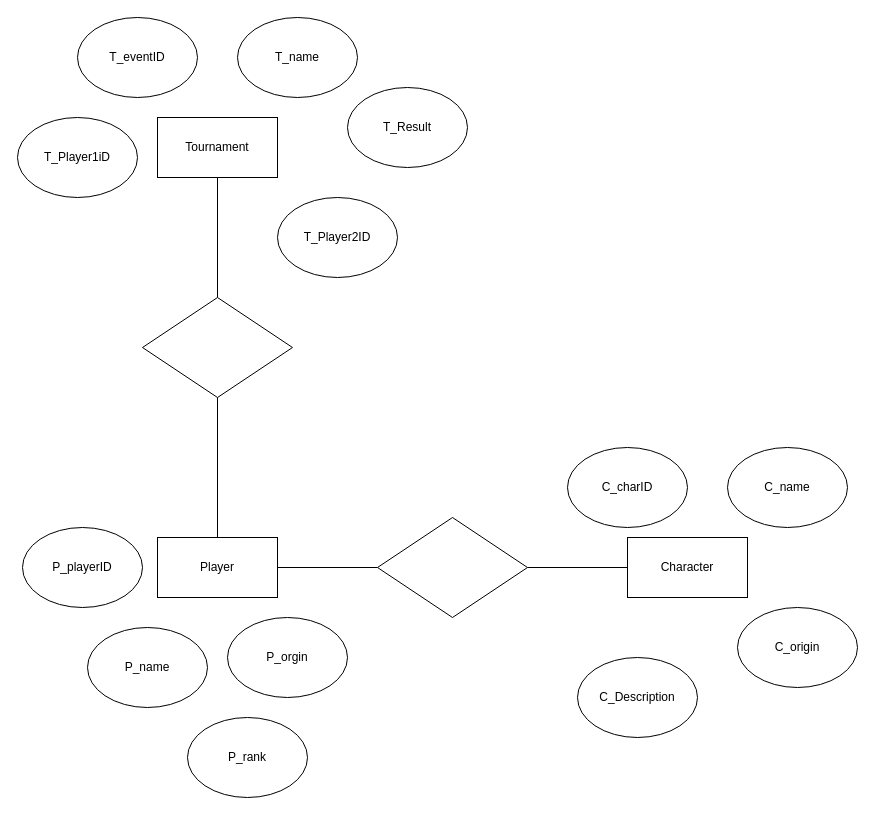
The diagram is 875 pixels wide and 815 high, and some of its shapes have lost their labels. Each missing label, with the centre of its shape:
"plays" belongs at (452,567).
"plays in" belongs at (217,347).
